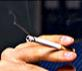Cigarette: (25, 35, 70, 51)
